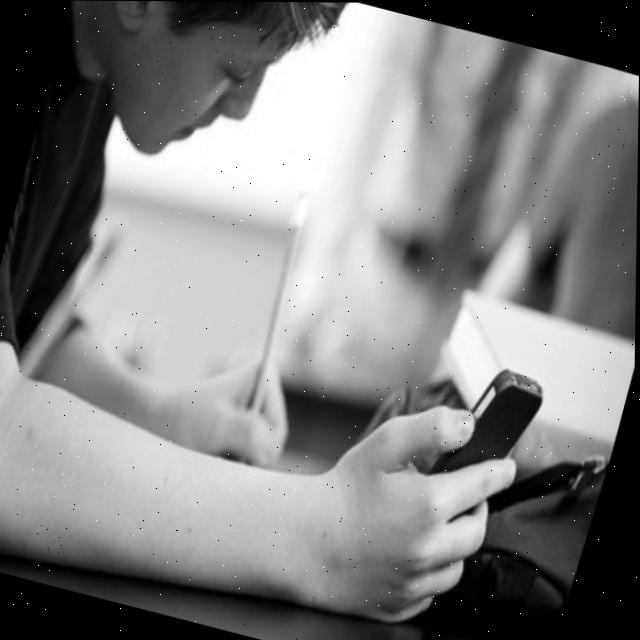phone: (426, 351, 552, 501)
